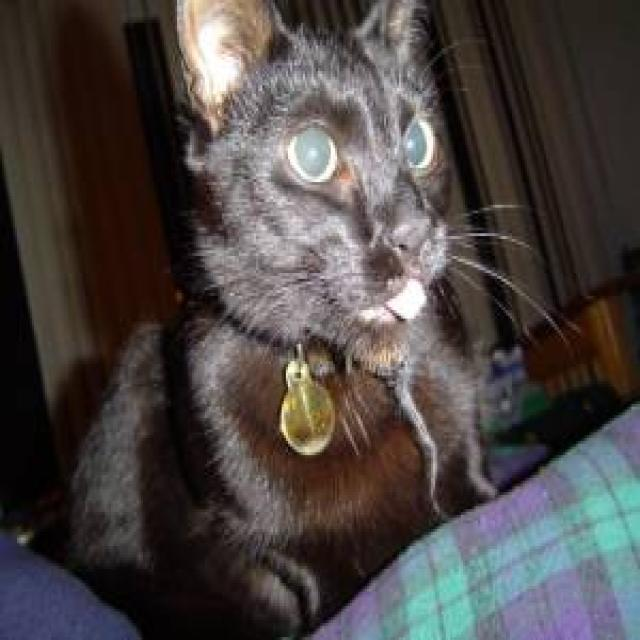Bombay: (168, 0, 462, 375)
